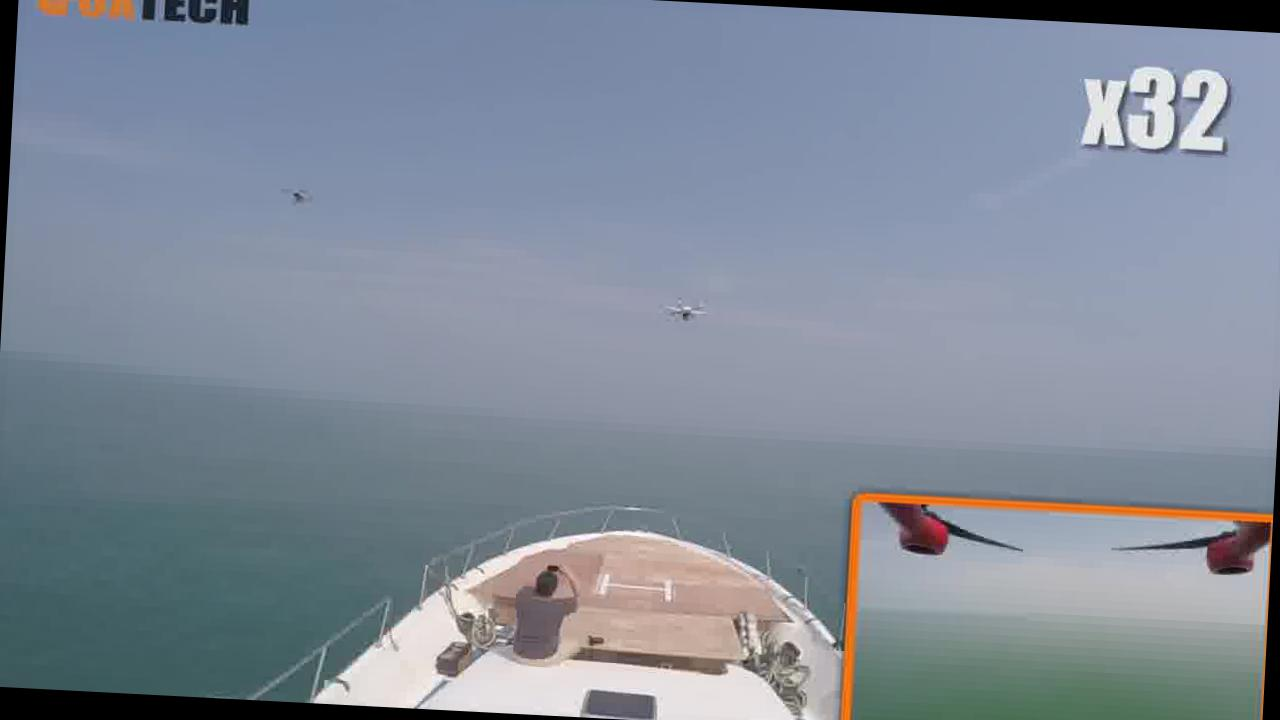drone: (642, 284, 734, 334), (260, 164, 327, 217)
